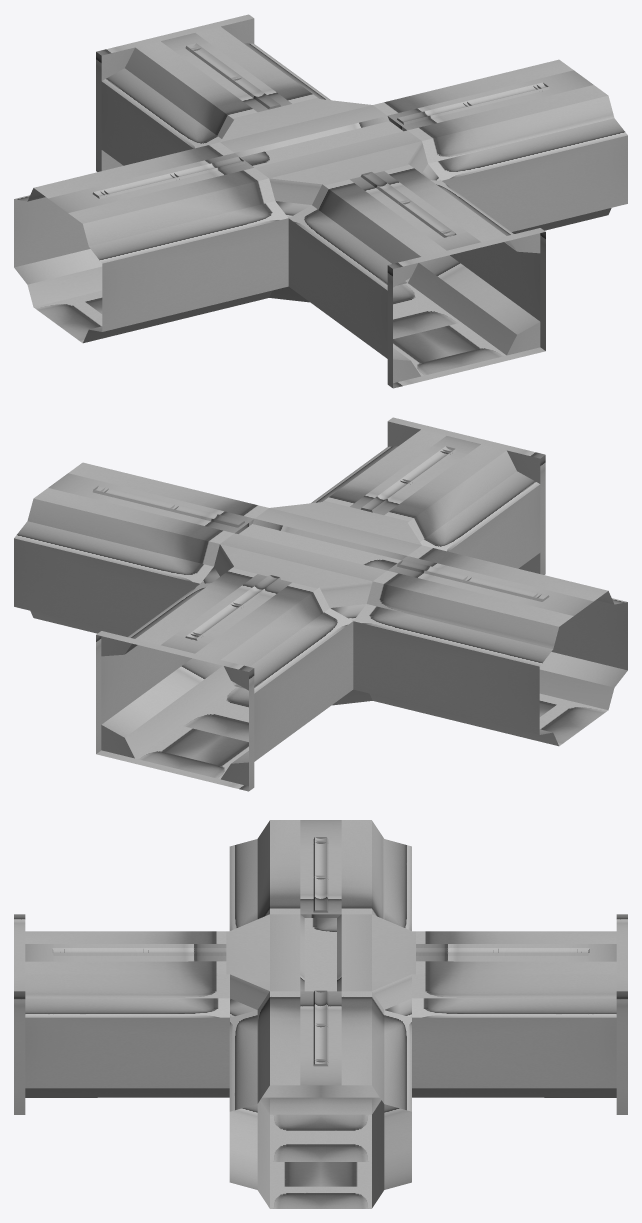
File: corridorC.FBX
3 renders of one model, top to bottom at view 1: azimuth 30°, elevation 25°; view 2: azimuth 150°, elevation 25°; view 3: azimuth 270°, elevation 25°, orthographic. The views are drawn at different scales.
Visible parts, largest first — view 1: corridorC; view 2: corridorC; view 3: corridorC.
Boxes of the visible parts, x1,y1,x2,y2 form: corridorC: [14, 14, 627, 388]; corridorC: [14, 417, 627, 791]; corridorC: [14, 820, 627, 1208].
Size of the model in its own units: 49.55 by 48.47 by 10.97.
